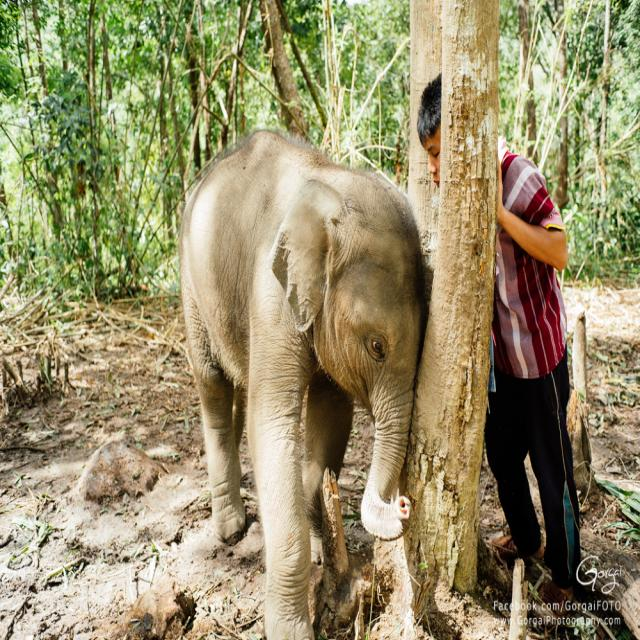Elephant: (170, 120, 428, 638)
person: (414, 49, 584, 586)
